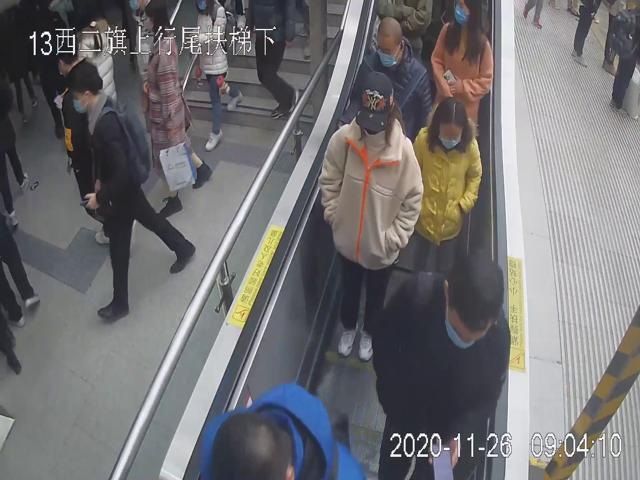person: (64, 61, 197, 323), (372, 252, 511, 480), (316, 71, 422, 365), (135, 0, 212, 218), (412, 93, 485, 284), (340, 15, 435, 143), (431, 0, 495, 124)
